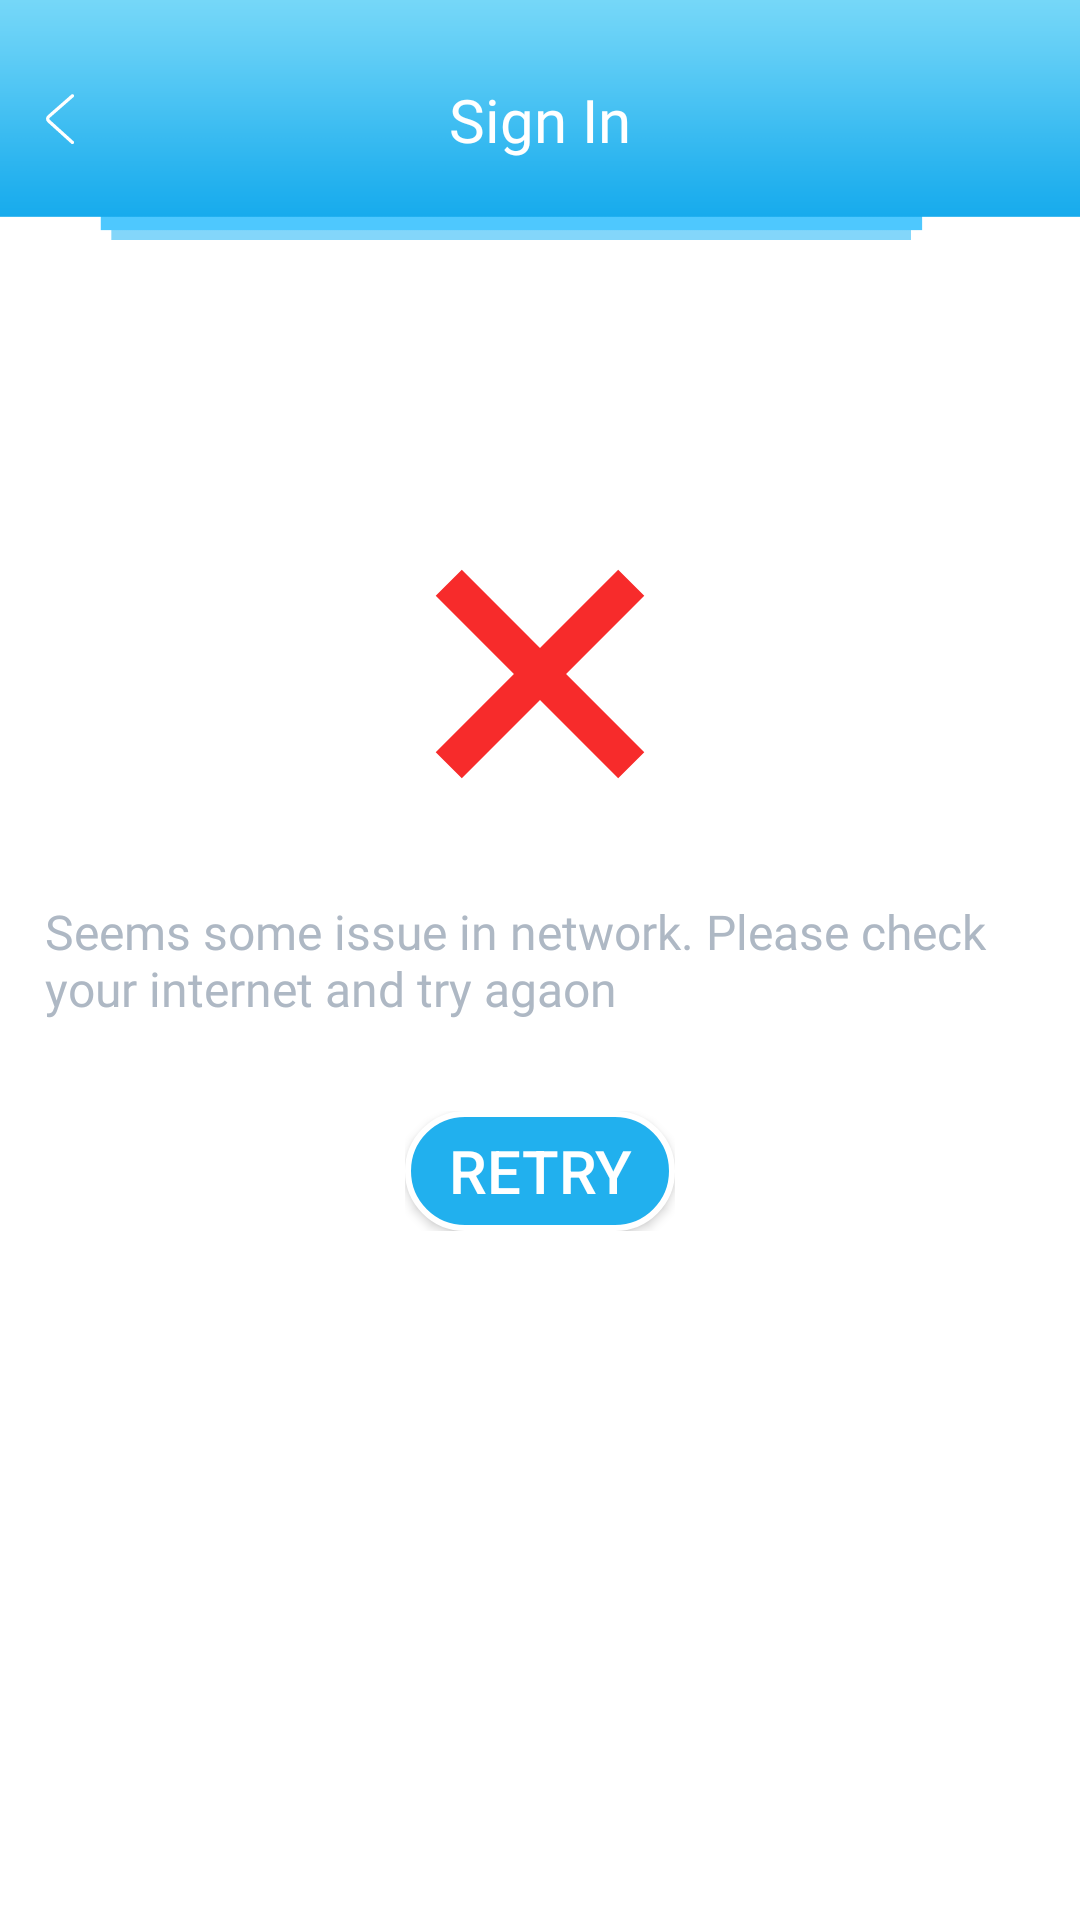

Icons on this 1080x1920 Android screen, each with the point to tap as point (x, y):
back: point (60, 122)
cross: point (540, 674)
